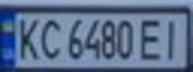0: (115, 16, 139, 61)
4: (81, 16, 103, 61)
6: (63, 16, 84, 61)
8: (100, 16, 118, 61)
C: (36, 16, 63, 61)
E: (136, 16, 166, 62)
I: (157, 16, 187, 61)
K: (12, 15, 42, 61)
